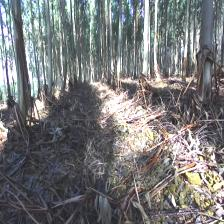trunk: (9, 6, 32, 132), (195, 5, 215, 102), (43, 5, 55, 97), (139, 1, 151, 89), (115, 4, 124, 94)
